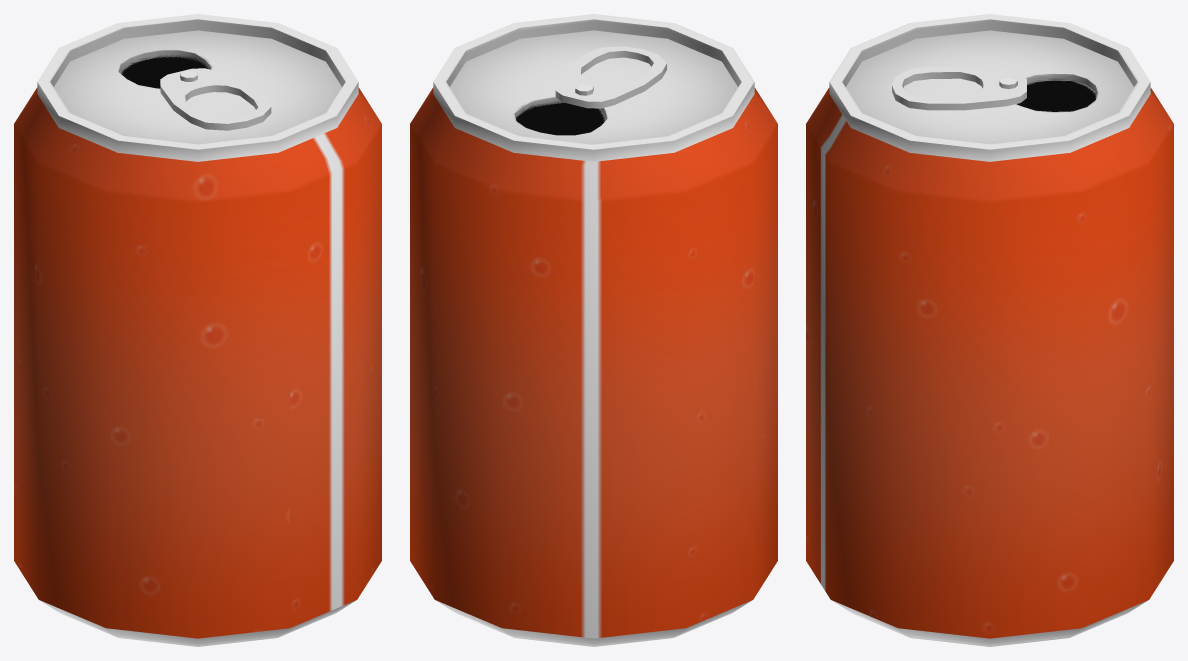
Rendered from can.FBX.
3 views of the same model, side by side, from view 1: azimuth 30°, elevation 25°; view 2: azimuth 150°, elevation 25°; view 3: azimuth 270°, elevation 25° (orthographic).
Parts seen in each view (by area): view 1: can; view 2: can; view 3: can.
Part boxes in pixels (bbox=[...]): can: bbox=[14, 14, 381, 646]; can: bbox=[410, 14, 777, 646]; can: bbox=[806, 14, 1173, 646].
Bounding box in the file's own units: 22.89 × 34.24 × 22.89.
